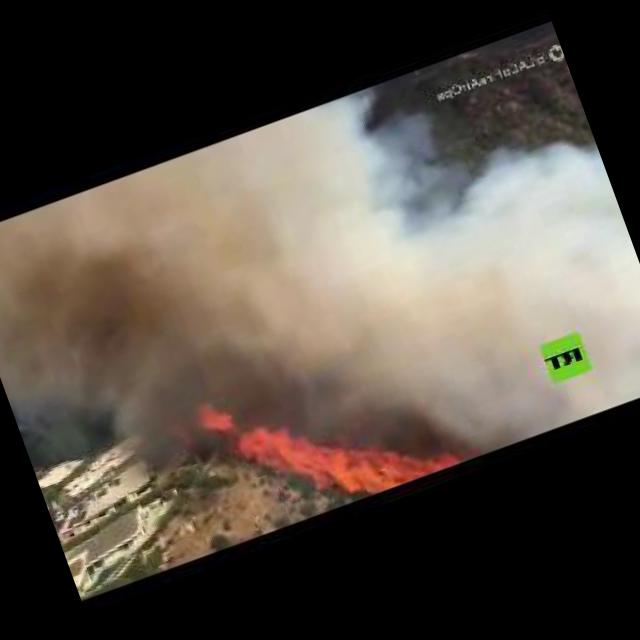fire: (198, 338, 456, 542)
smoke: (0, 182, 308, 514)
